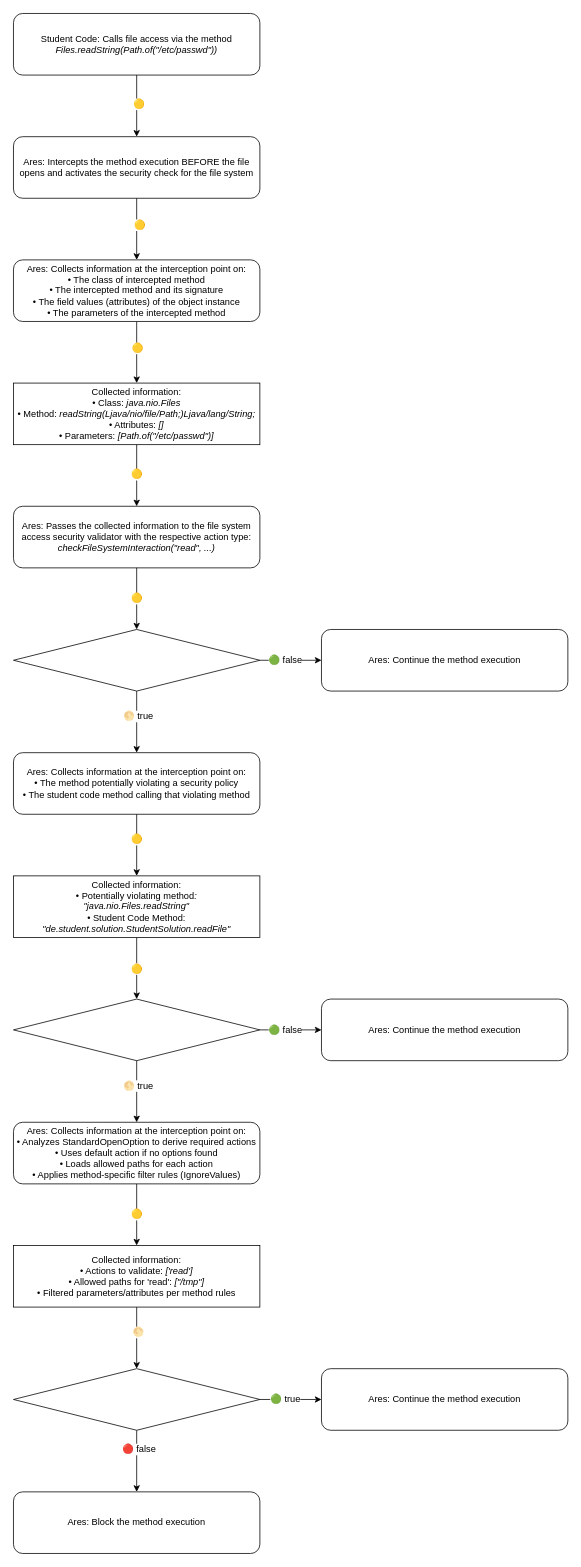
This 581x1567 diagram has some shape labels left out. The box of each missing label's shape, as (x1, y1, x2, y2) in pixels:
Ares: Does the potentially violating method call come from the Student Code?: (13, 998, 260, 1061)
Ares: Is the respective security enabled?: (13, 629, 260, 691)
Ares: Paths (parameters & object state) allowed or Ares-internal?: (13, 1368, 260, 1430)
